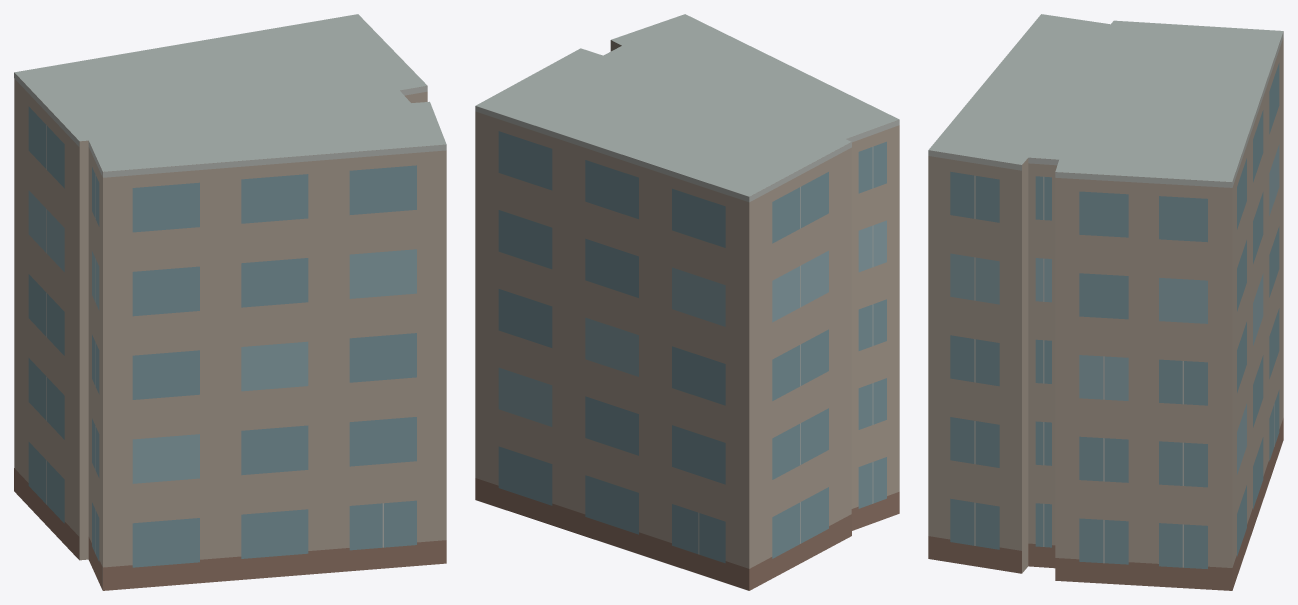
File: survey-upis-32916564.glb
3 renders of one model, left to right at view 1: azimuth 30°, elevation 25°; view 2: azimuth 150°, elevation 25°; view 3: azimuth 270°, elevation 25°, orthographic. The views are drawn at different scales.
Visible parts, largest first — view 1: survey-upis-32916564.tmp; view 2: survey-upis-32916564.tmp; view 3: survey-upis-32916564.tmp.
Boxes of the visible parts, bbox=[...] form: survey-upis-32916564.tmp: bbox=[14, 14, 446, 590]; survey-upis-32916564.tmp: bbox=[475, 14, 899, 590]; survey-upis-32916564.tmp: bbox=[928, 14, 1283, 590].
Bounding box in the file's own units: 15.18 × 17.2 × 13.56.
